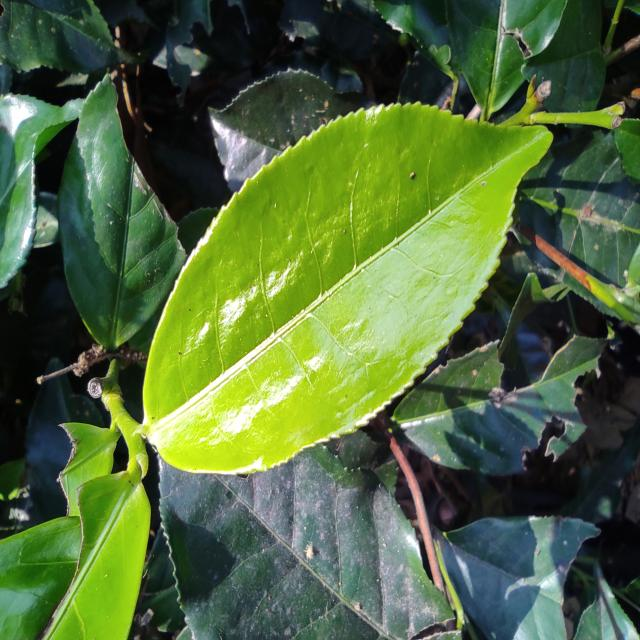Category B(2-4 days): (138, 96, 556, 482)
